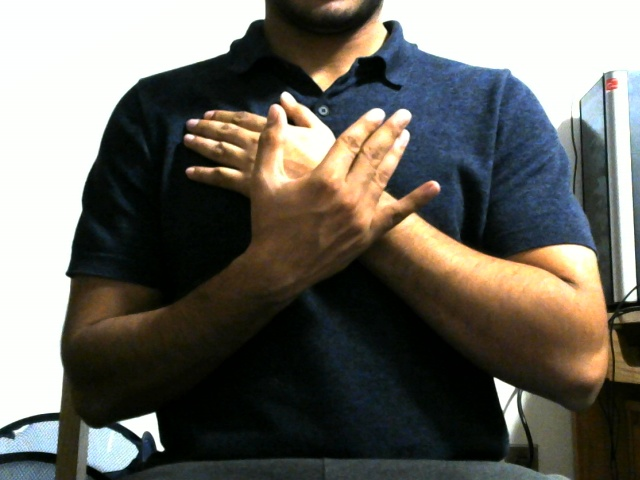blood: (169, 70, 471, 301)
